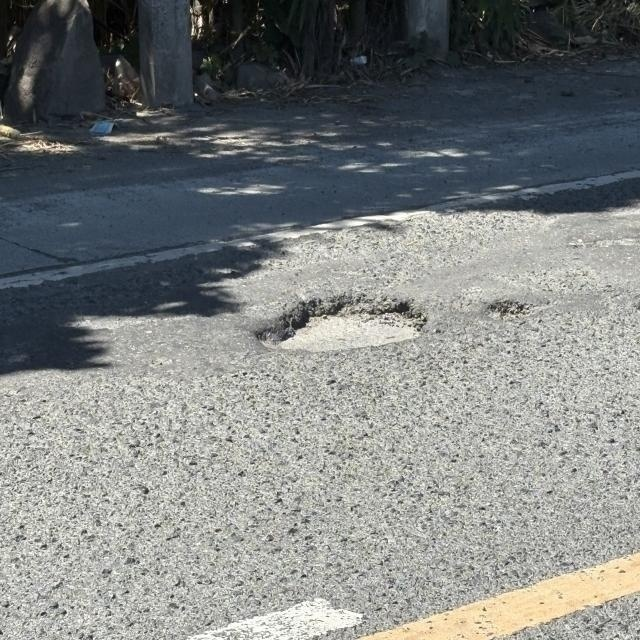pothole: (237, 251, 456, 375), (480, 266, 553, 344)
